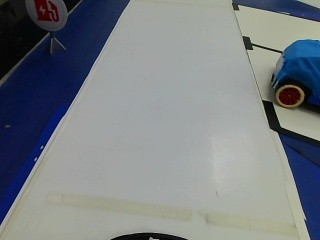battery: (22, 0, 69, 29)
car: (266, 37, 318, 111)
